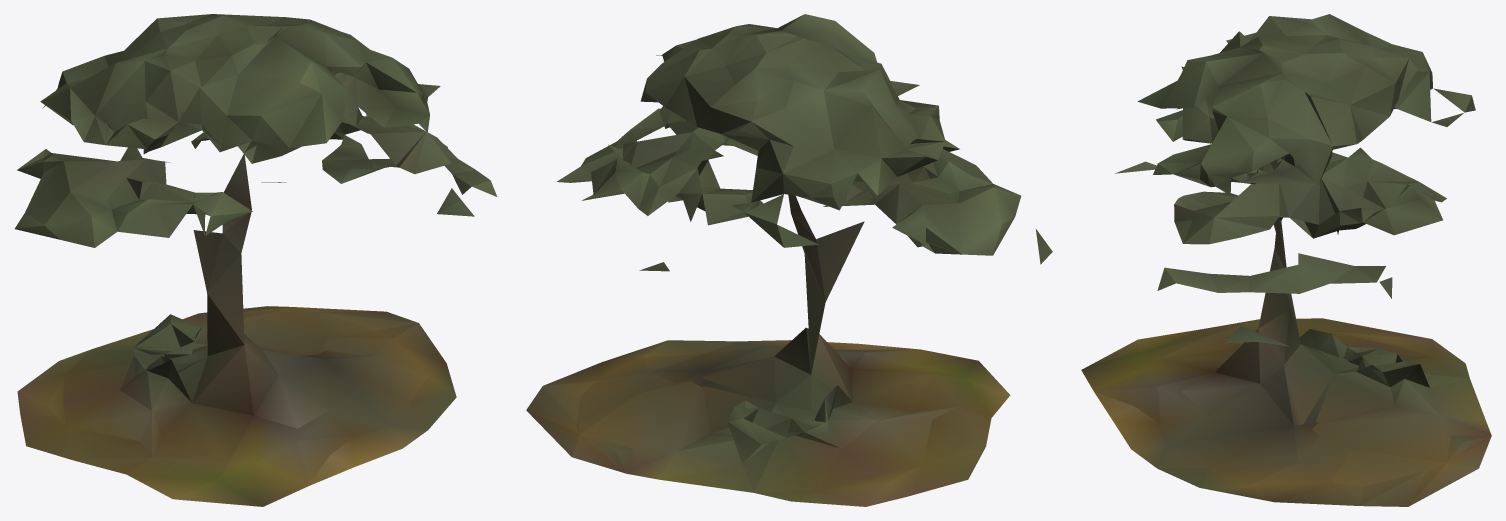
File: lib_tp_thongcn.vc2.glb
3 views of the same model, side by side, from view 1: azimuth 30°, elevation 25°; view 2: azimuth 150°, elevation 25°; view 3: azimuth 270°, elevation 25° (orthographic). The views are drawn at different scales.
Parts seen in each view (by area): view 1: lib_tp_thongcn; view 2: lib_tp_thongcn; view 3: lib_tp_thongcn.
Part boxes in pixels (x1,y1,x2,y2): lib_tp_thongcn: (14,14,497,506); lib_tp_thongcn: (526,14,1052,506); lib_tp_thongcn: (1081,14,1491,506).
Bounding box in the file's own units: 1.83 × 1.54 × 1.55.
